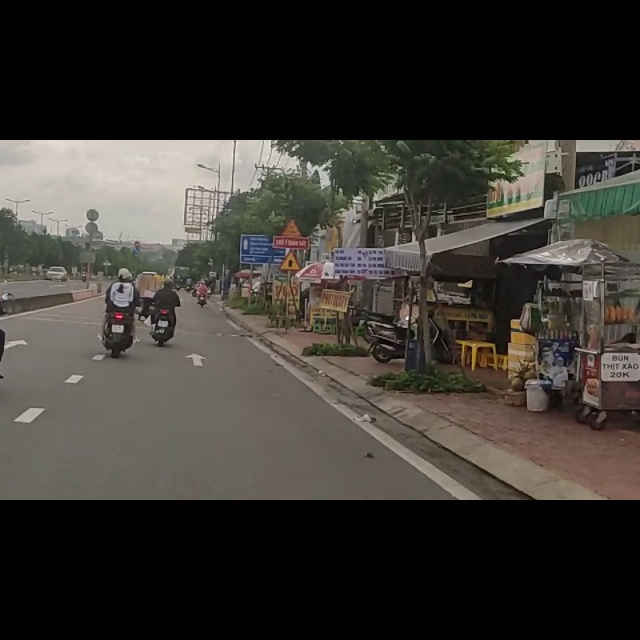bien_chi_dan: (277, 193, 303, 233)
